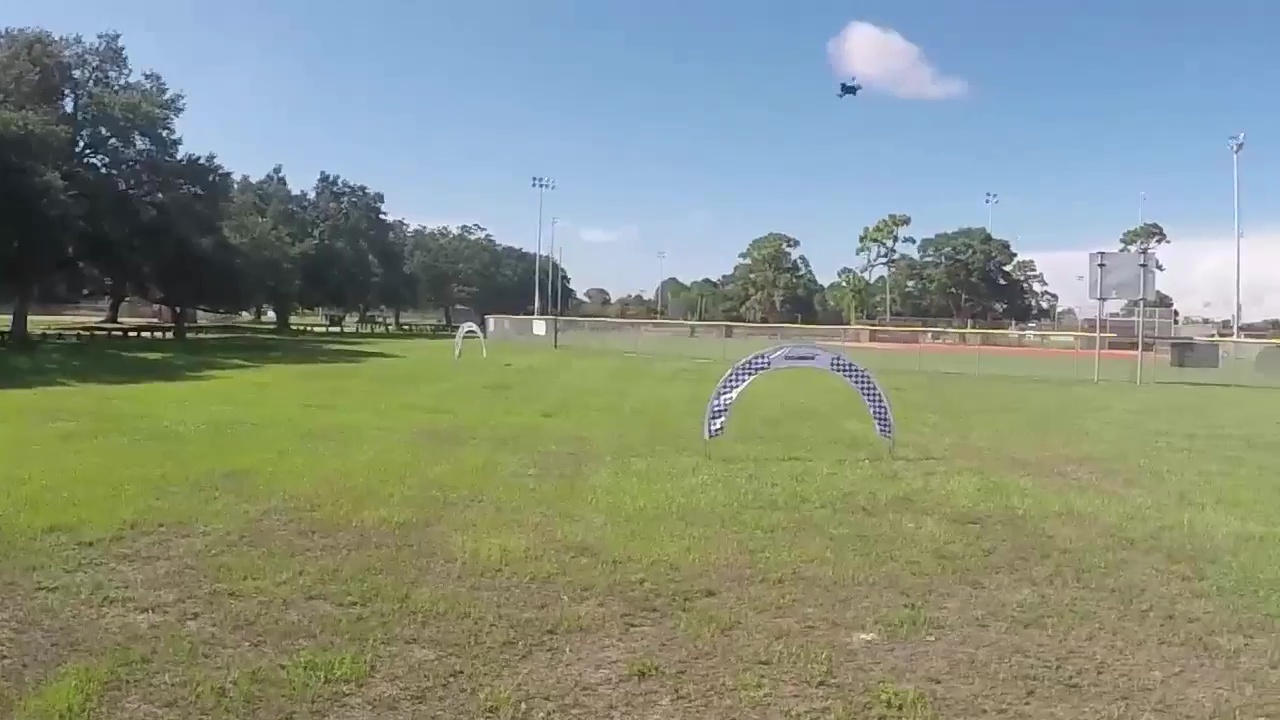gate: (702, 344, 897, 446), (455, 320, 485, 360)
